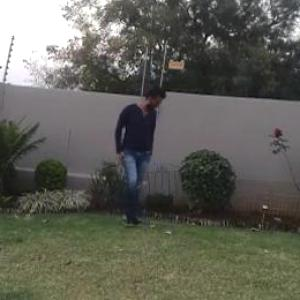follow: (110, 81, 157, 228)
